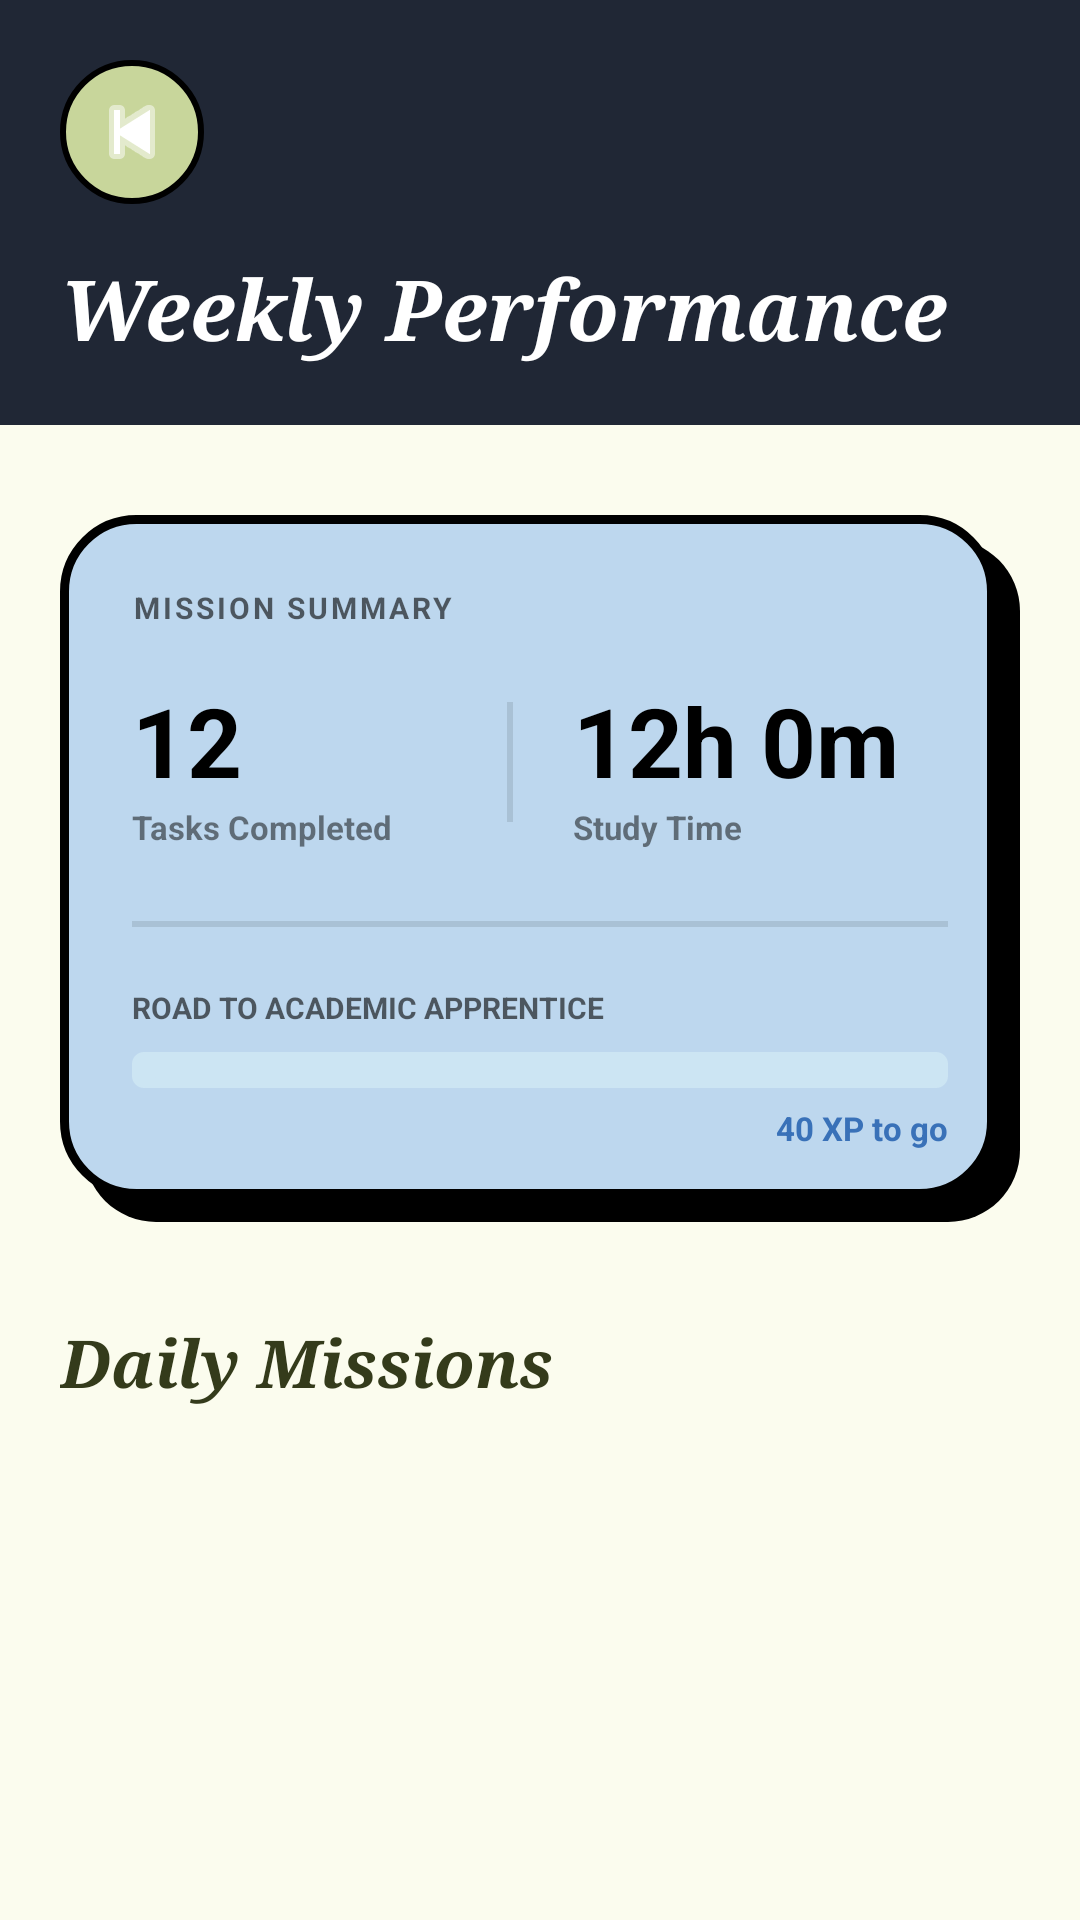

Locate icon controls on the screen. Image size 1080w x 1920h, boxes as rect(x1, y1, x2, y2).
Back: rect(60, 60, 204, 204)
